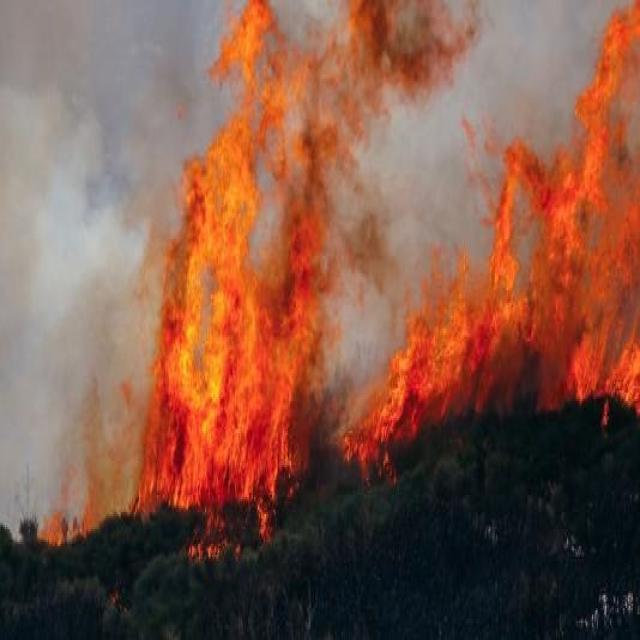Fire: (141, 2, 640, 561), (32, 388, 144, 552)
Smoke: (0, 0, 146, 378)
